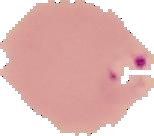parasitized: (104, 39, 154, 100)
